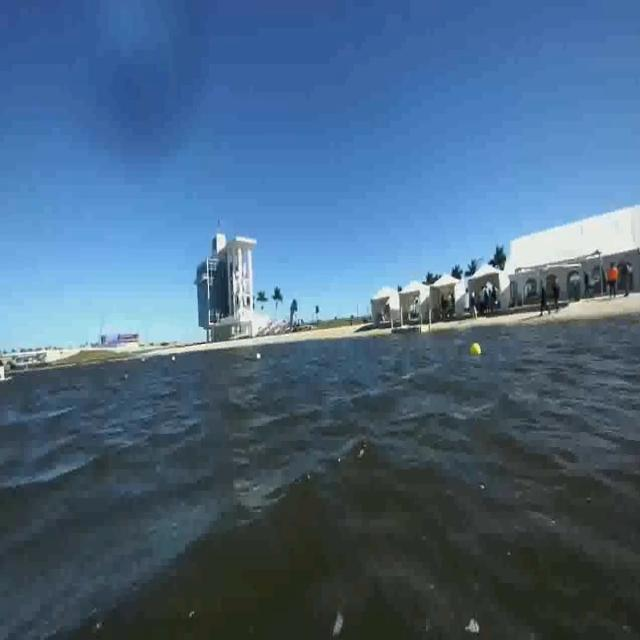yellow-buoy: (469, 340, 481, 359)
